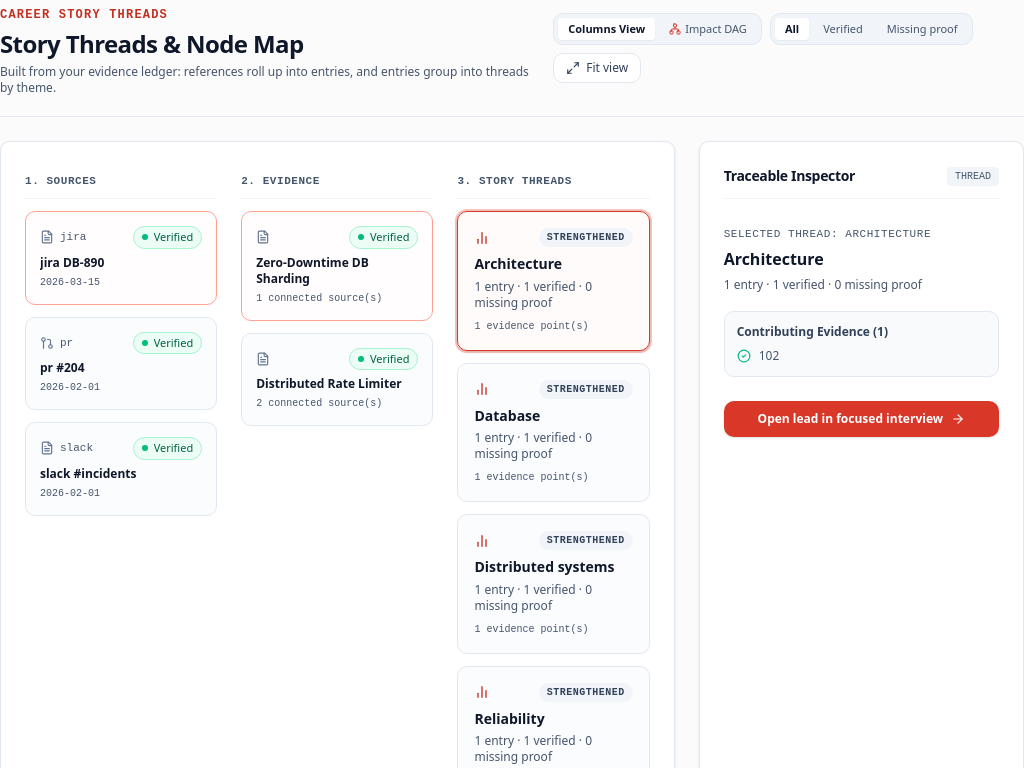
Test: Story Threads & Impact DAG Visualization (Task #13) › switches to Impact DAG view and displays 3 causal lanes with skill clusters
Click the tab "Impact DAG".
click(708, 29)  # box [659,18,757,40]
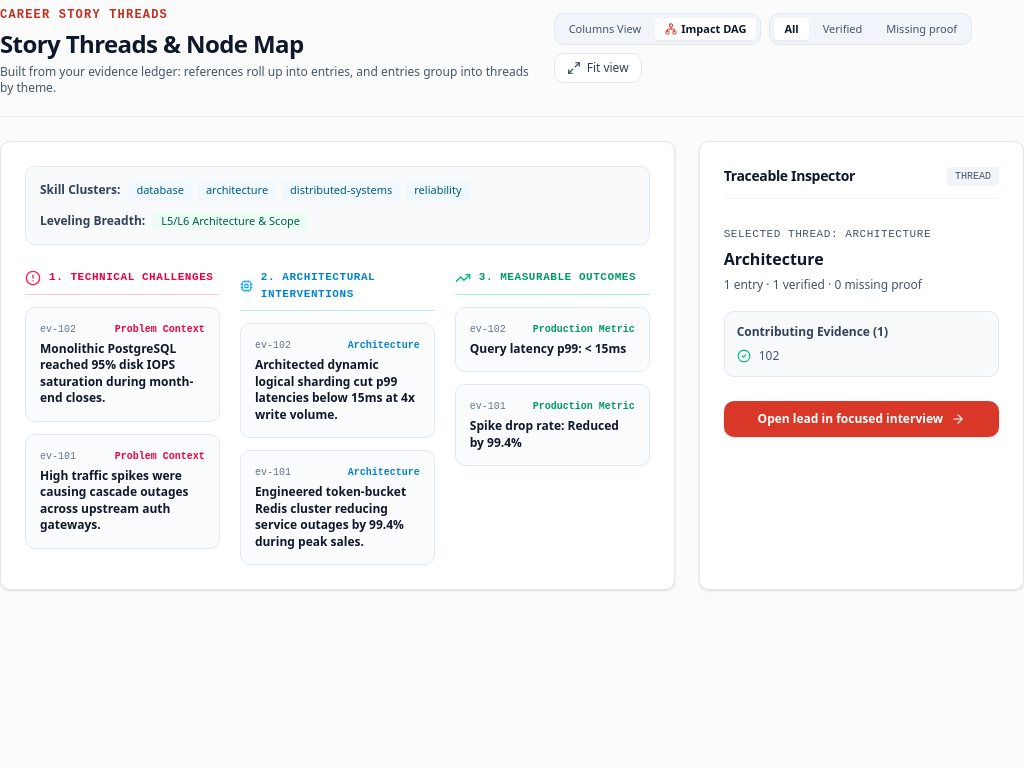
expect the element with test id "impact-dag-container" is shown: met, box [25,166,650,565]
expect the text "Skill Clusters:" is shown: met, box [40,182,120,198]
expect the text "Leveling Breadth:" is shown: met, box [40,213,145,229]
